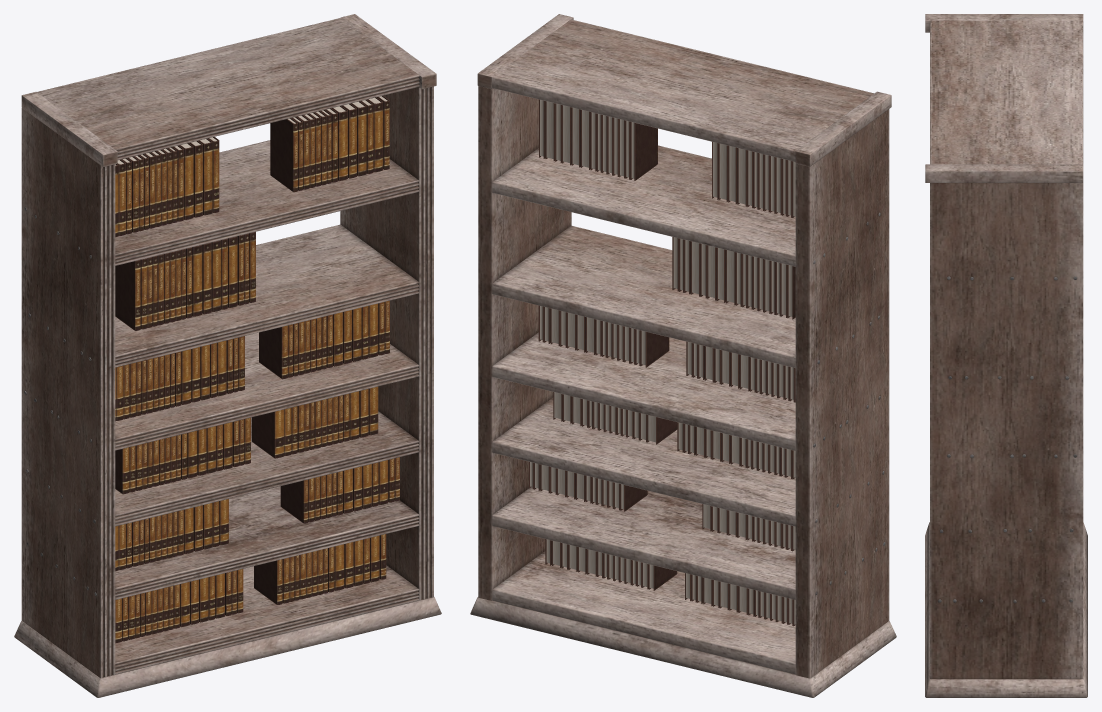
The model's file is bookshelf.glb.
The picture shows the model from 3 angles, left to right: view 1: azimuth 30°, elevation 25°; view 2: azimuth 150°, elevation 25°; view 3: azimuth 270°, elevation 25°; orthographic projection. The views are drawn at different scales.
Visible parts, largest first — view 1: wooden_bookshelf_worn, book_encyclopedia_set_01_book03 (×2), book_encyclopedia_set_01_book15 (×3), book_encyclopedia_set_01_book13 (×3), book_encyclopedia_set_01_book14 (×3), book_encyclopedia_set_01_book05, book_encyclopedia_set_01_book17 (×2), book_encyclopedia_set_01_book01, book_encyclopedia_set_01_book04, book_encyclopedia_set_01_book06, book_encyclopedia_set_01_book02; view 2: wooden_bookshelf_worn, book_encyclopedia_set_01_book05, book_encyclopedia_set_01_book04; view 3: wooden_bookshelf_worn.
Part boxes in pixels (x1,y1,x2,y2): wooden_bookshelf_worn: (14,14,441,697); book_encyclopedia_set_01_book03 (×2): (115,260,282,604); book_encyclopedia_set_01_book15 (×3): (198,101,366,311); book_encyclopedia_set_01_book13 (×3): (179,106,347,316); book_encyclopedia_set_01_book14 (×3): (189,103,356,314); book_encyclopedia_set_01_book05: (270,118,297,192); book_encyclopedia_set_01_book17 (×2): (228,97,383,307); book_encyclopedia_set_01_book01: (251,409,284,458); book_encyclopedia_set_01_book04: (259,325,287,379); book_encyclopedia_set_01_book06: (280,479,308,523); book_encyclopedia_set_01_book02: (115,447,129,494); wooden_bookshelf_worn: (470,14,896,697); book_encyclopedia_set_01_book05: (630,122,657,180); book_encyclopedia_set_01_book04: (640,330,669,367); wooden_bookshelf_worn: (925,14,1087,697).
Size of the model in its own units: 1.37 by 2.06 by 0.5813.
Materials: 3 (3 with a texture image).
